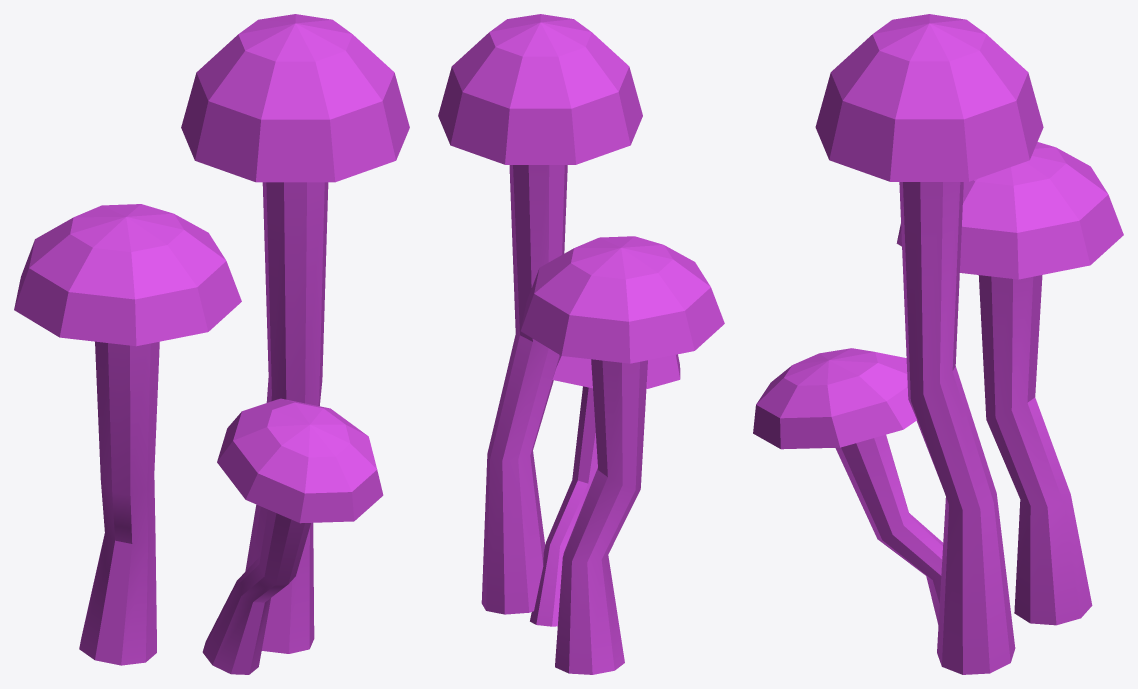
The model's file is mushroom_05.fbx.
3 renders of one model, left to right at view 1: azimuth 30°, elevation 25°; view 2: azimuth 150°, elevation 25°; view 3: azimuth 270°, elevation 25°, orthographic. The views are drawn at different scales.
Parts seen in each view (by area): view 1: pSphere10; view 2: pSphere10; view 3: pSphere10.
Boxes of the visible parts, x1=… form: pSphere10: x1=14, y1=14, x2=409, y2=674; pSphere10: x1=438, y1=14, x2=724, y2=674; pSphere10: x1=753, y1=14, x2=1123, y2=674.
Size of the model in its own units: 1.36 by 2.62 by 1.37.
